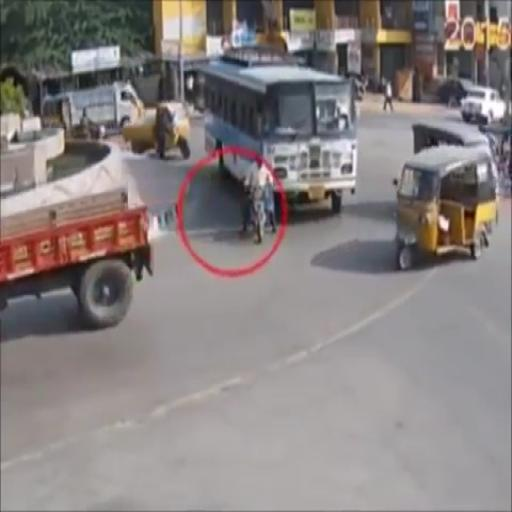小汽车: (206, 64, 357, 216), (2, 188, 153, 325), (392, 149, 497, 267), (121, 105, 193, 162)
自行车: (240, 155, 278, 247)
